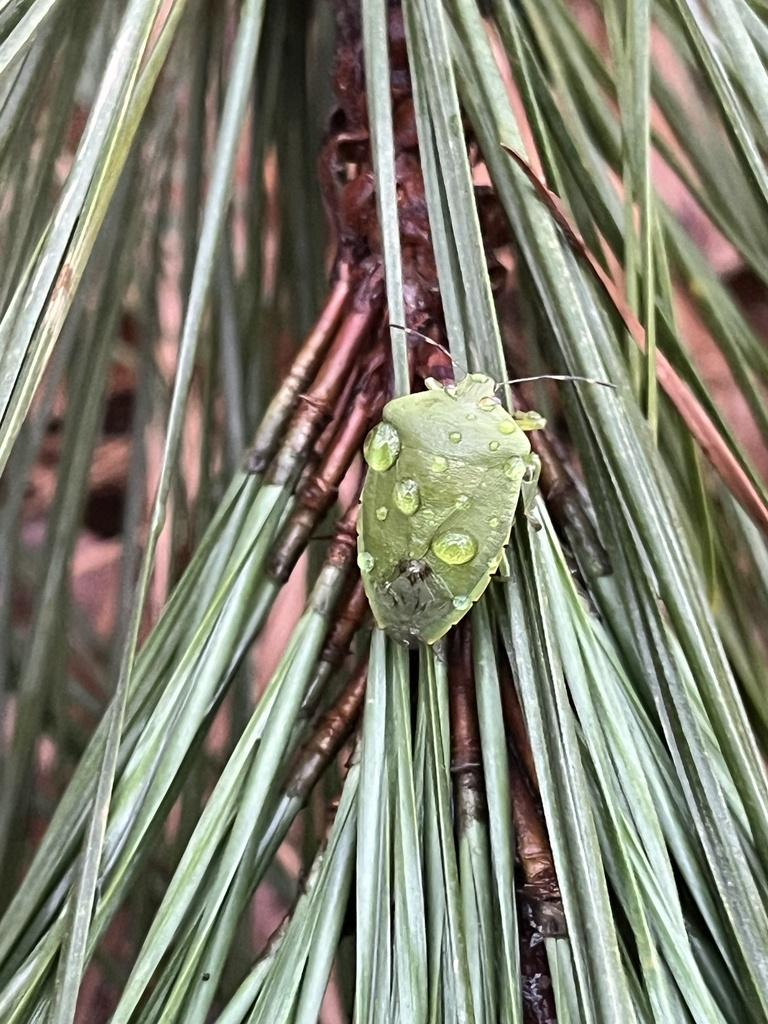stink_bugs: (270, 274, 679, 717)
